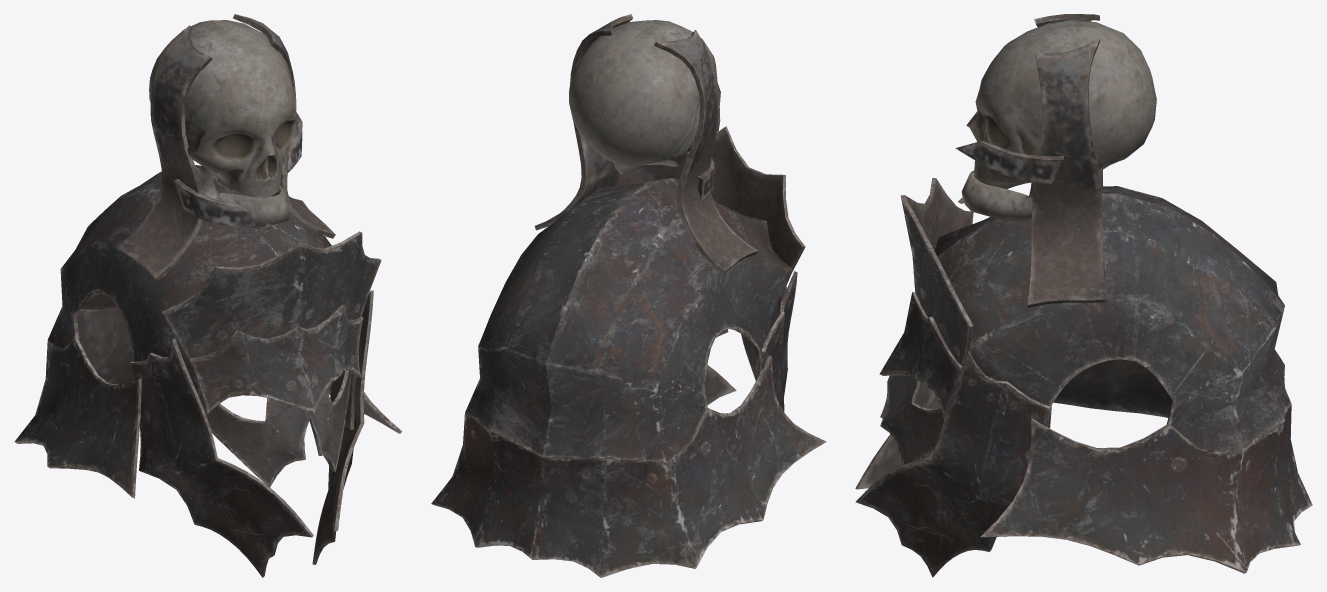
Rendered from sk_dg_uruk_helmet_lord_f.fbx.
3 views of the same model, side by side, from view 1: azimuth 30°, elevation 25°; view 2: azimuth 150°, elevation 25°; view 3: azimuth 270°, elevation 25° (orthographic). The views are drawn at different scales.
Parts seen in each view (by area): view 1: sk_dg_uruk_helmet_lord_f.0, sk_dg_uruk_helmet_lord_f.1; view 2: sk_dg_uruk_helmet_lord_f.0, sk_dg_uruk_helmet_lord_f.1; view 3: sk_dg_uruk_helmet_lord_f.0, sk_dg_uruk_helmet_lord_f.1.
Part boxes in pixels (x1,y1,x2,y2): sk_dg_uruk_helmet_lord_f.0: (14, 165, 402, 577); sk_dg_uruk_helmet_lord_f.1: (116, 14, 335, 281); sk_dg_uruk_helmet_lord_f.0: (431, 126, 826, 577); sk_dg_uruk_helmet_lord_f.1: (534, 14, 758, 275); sk_dg_uruk_helmet_lord_f.0: (855, 178, 1312, 577); sk_dg_uruk_helmet_lord_f.1: (955, 14, 1156, 307).
Size of the model in its own units: 0.2774 by 0.346 by 0.4481.
Materials: 2 (2 with a texture image).
